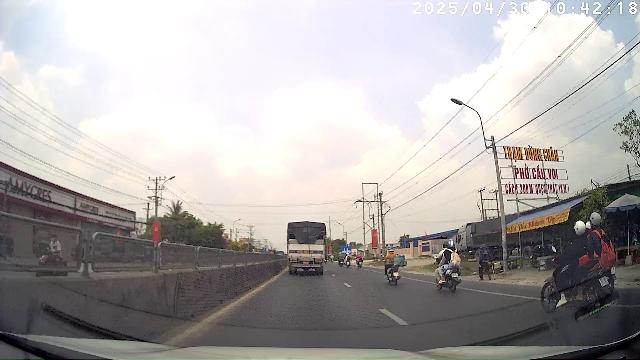420-bat-dau-khu-dong-dan-cu: (341, 246, 351, 254)
